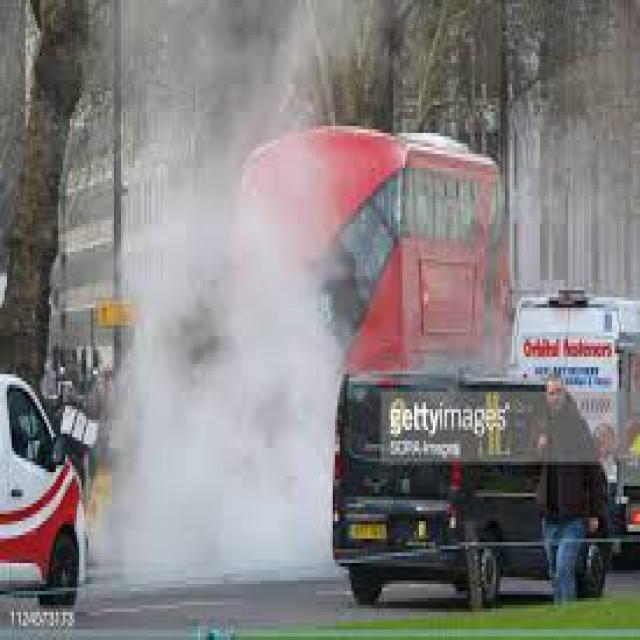Smoke: (78, 21, 355, 578)
